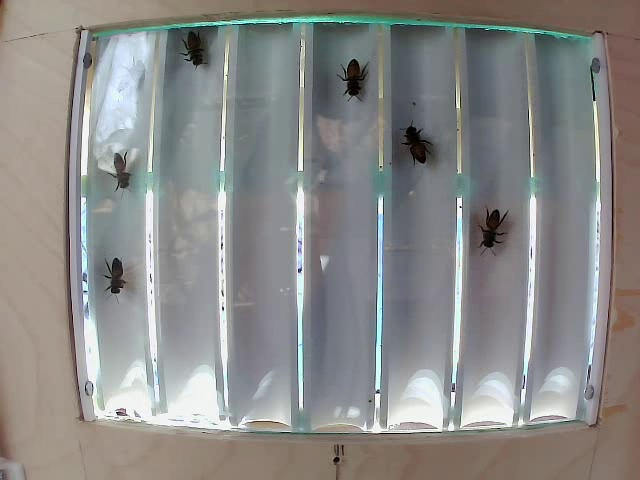bee: (93, 242, 143, 300), (96, 146, 152, 185), (473, 194, 507, 250), (397, 131, 436, 179), (174, 31, 218, 73), (346, 55, 374, 107)
